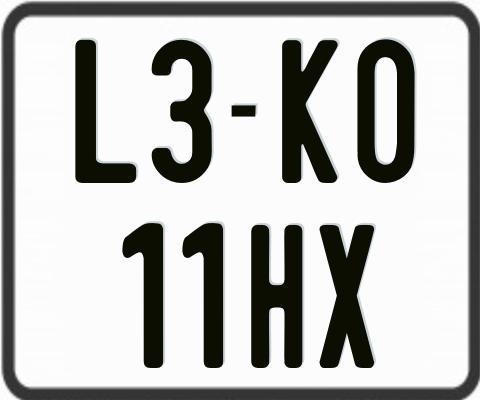0: (354, 38, 413, 183)
1: (120, 222, 164, 367), (179, 223, 221, 372)
3: (150, 38, 211, 182)
H: (251, 224, 306, 370)
K: (280, 38, 341, 187)
L: (73, 40, 140, 186)
X: (318, 224, 372, 368)
